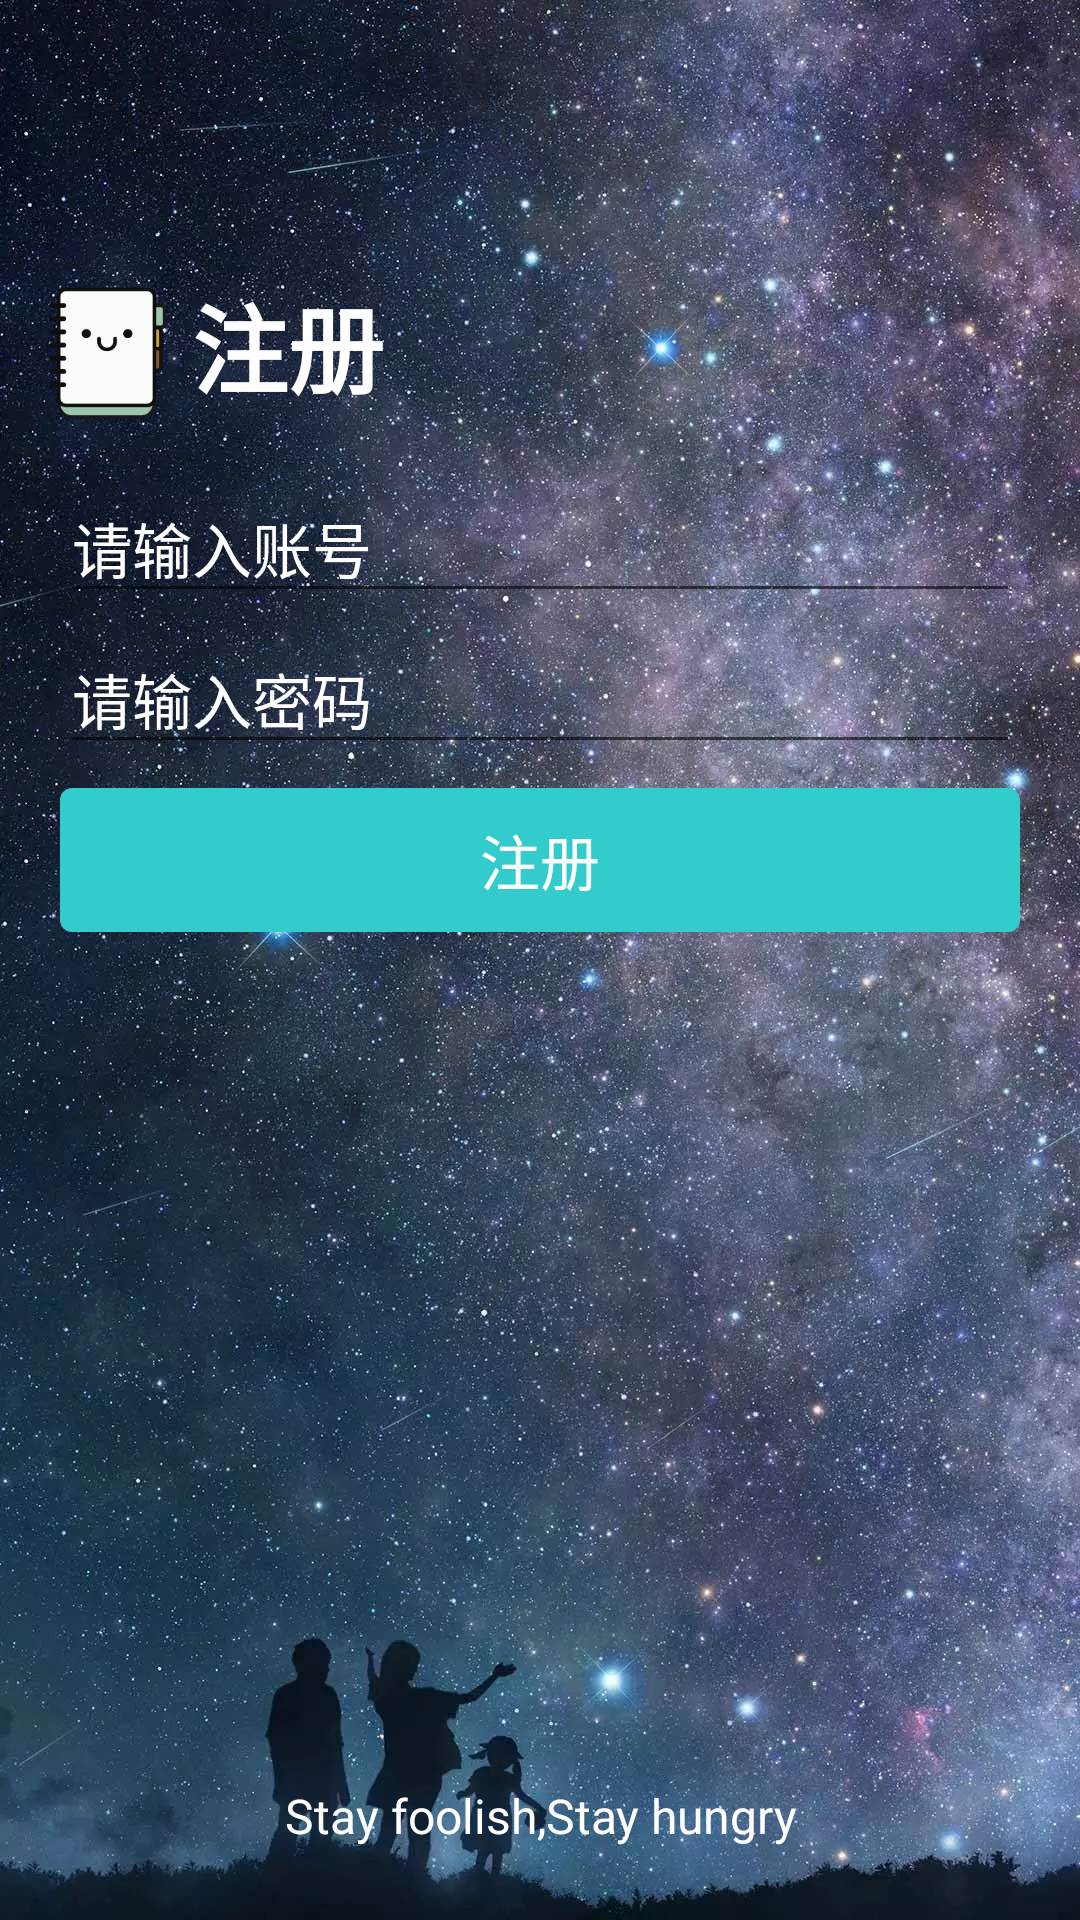

Point at icon controls on the screen. Image size 1080 x 1920, points as [x,y].
notebook: [108,354]
